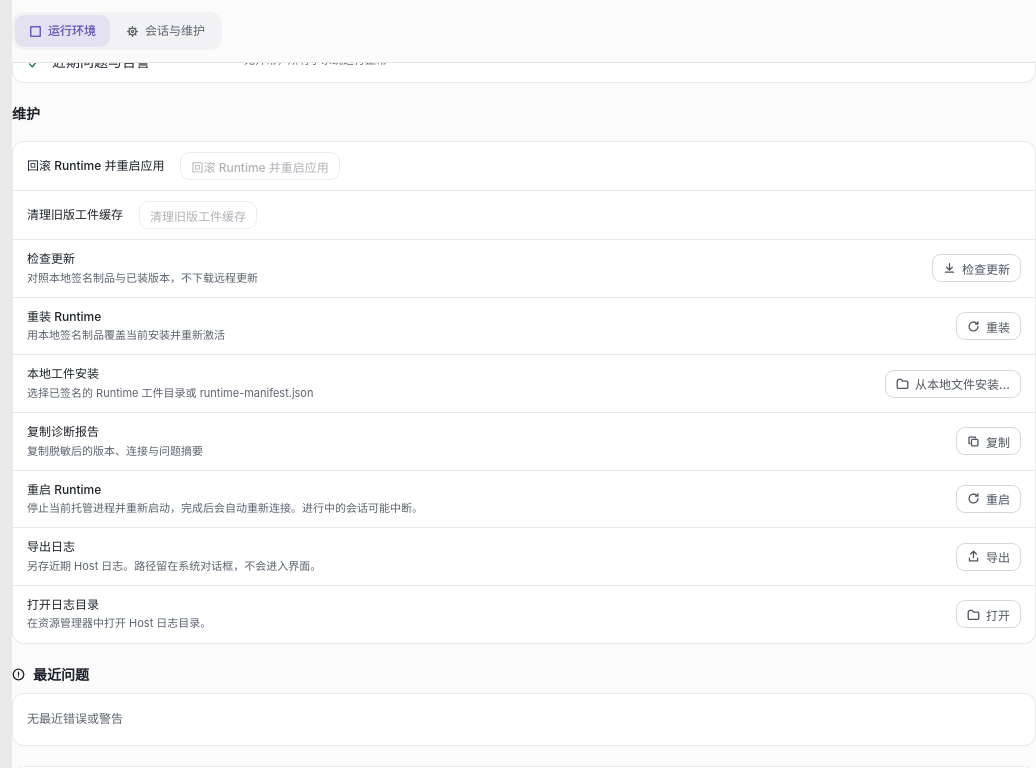
Scenario: Runtime installation handoff › installs an imported stable artifact using its verified channel
Click the button "从本地文件安装…": click(953, 384) [885,370,1021,398]
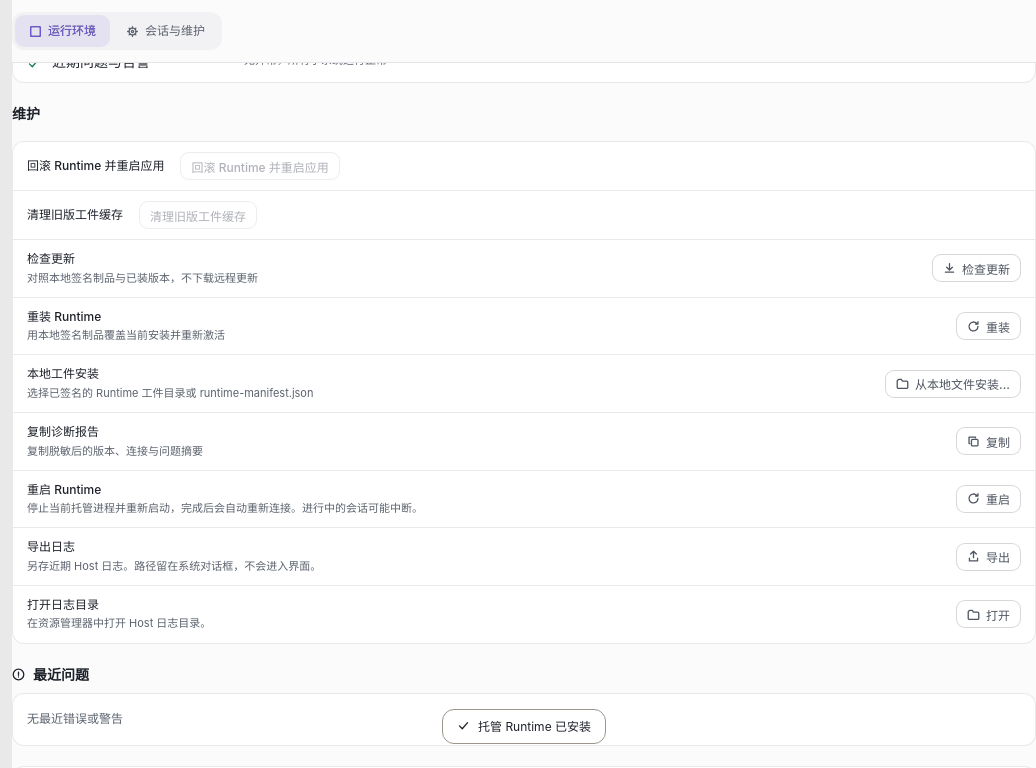
expect the text "托管 Runtime 已安装" is shown: met, box [478,718,591,735]
